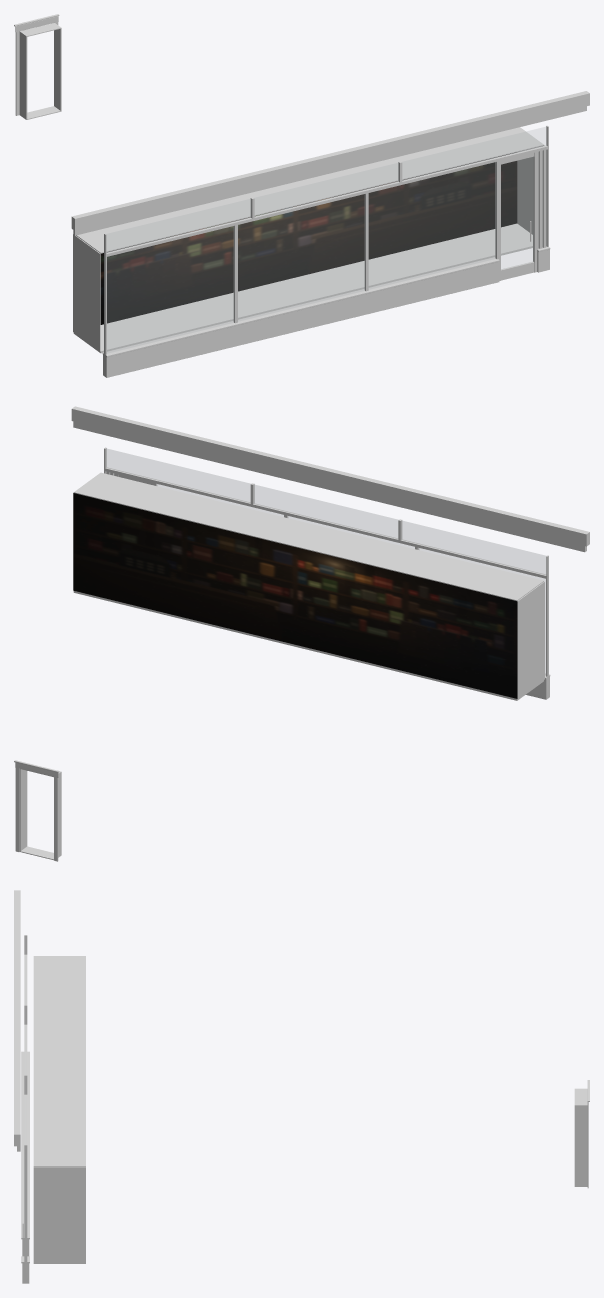
The model's file is SM_Town_Diner_Trim.fbx.
The picture shows the model from 3 angles, top to bottom: view 1: azimuth 30°, elevation 25°; view 2: azimuth 150°, elevation 25°; view 3: azimuth 270°, elevation 25°; orthographic projection. The views are drawn at different scales.
Visible parts, largest first — view 1: SM_Town_Diner_Trim_1; view 2: SM_Town_Diner_Trim_1; view 3: SM_Town_Diner_Trim_1.
Boxes of the visible parts, x1,y1,x2,y2 form: SM_Town_Diner_Trim_1: (14,14,589,377); SM_Town_Diner_Trim_1: (14,406,589,861); SM_Town_Diner_Trim_1: (14,890,589,1283).
Size of the model in its own units: 1324 by 420 by 1320.
